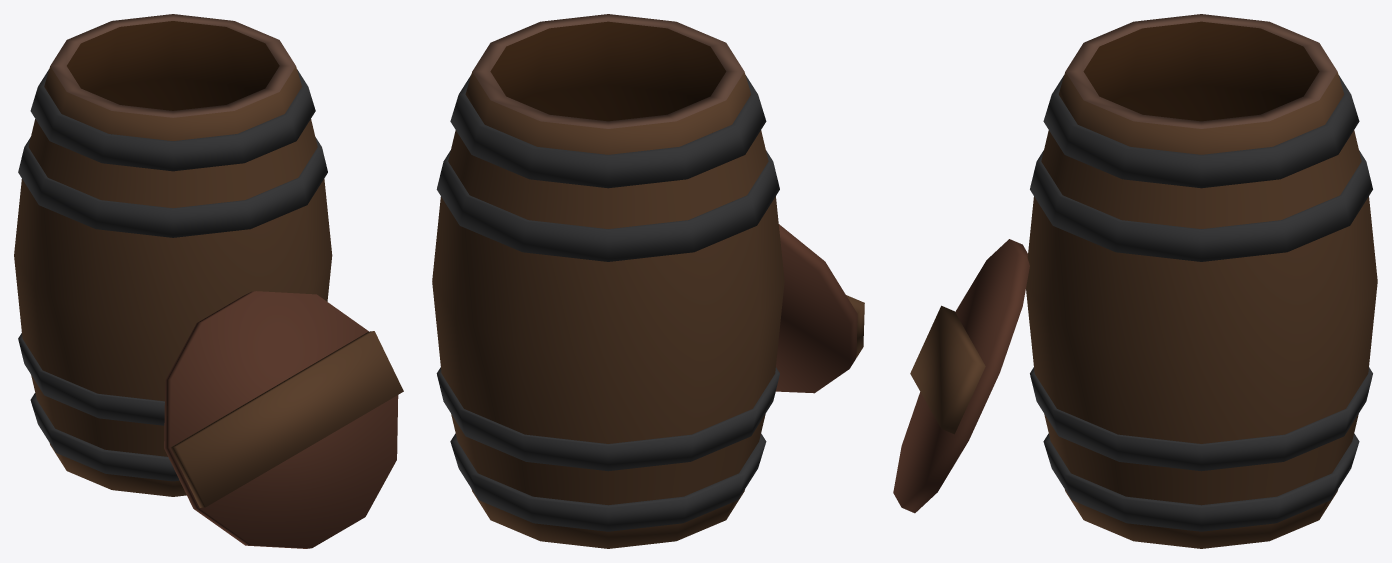
File: Barrel 2.glb
3 views of the same model, side by side, from view 1: azimuth 30°, elevation 25°; view 2: azimuth 150°, elevation 25°; view 3: azimuth 270°, elevation 25° (orthographic). The views are drawn at different scales.
Parts seen in each view (by area): view 1: Barrel2; view 2: Barrel2; view 3: Barrel2.
Part boxes in pixels (x1,y1,x2,y2): Barrel2: [14, 14, 403, 548]; Barrel2: [432, 14, 864, 548]; Barrel2: [893, 14, 1377, 548].
Size of what is drawn, in the model's own units: 0.725 by 0.9692 by 0.9964.
Materials: 1 (1 with a texture image).
